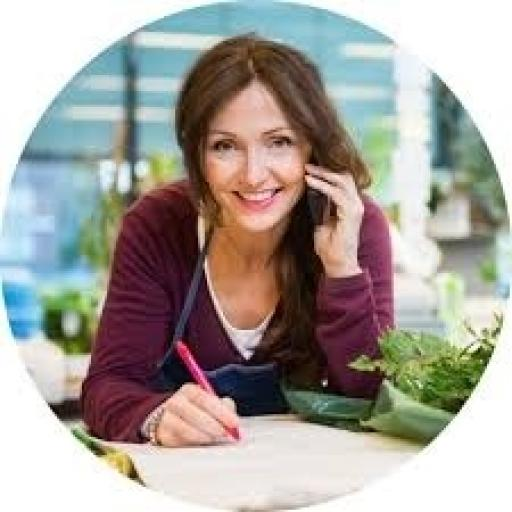calling: (78, 32, 398, 450)
